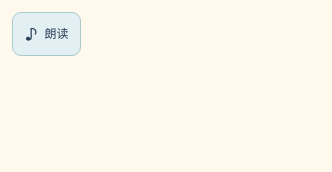
Scenario: 页面与真实学习流程 › TTS 不可用时说明原因
Click the button with aria-label "朗读 Hello": [47, 34] box x1=12 y1=12 x2=82 y2=56
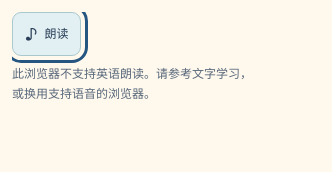
Now the message shows "不支持英语朗读", box x1=12 y1=66 x2=252 y2=101
